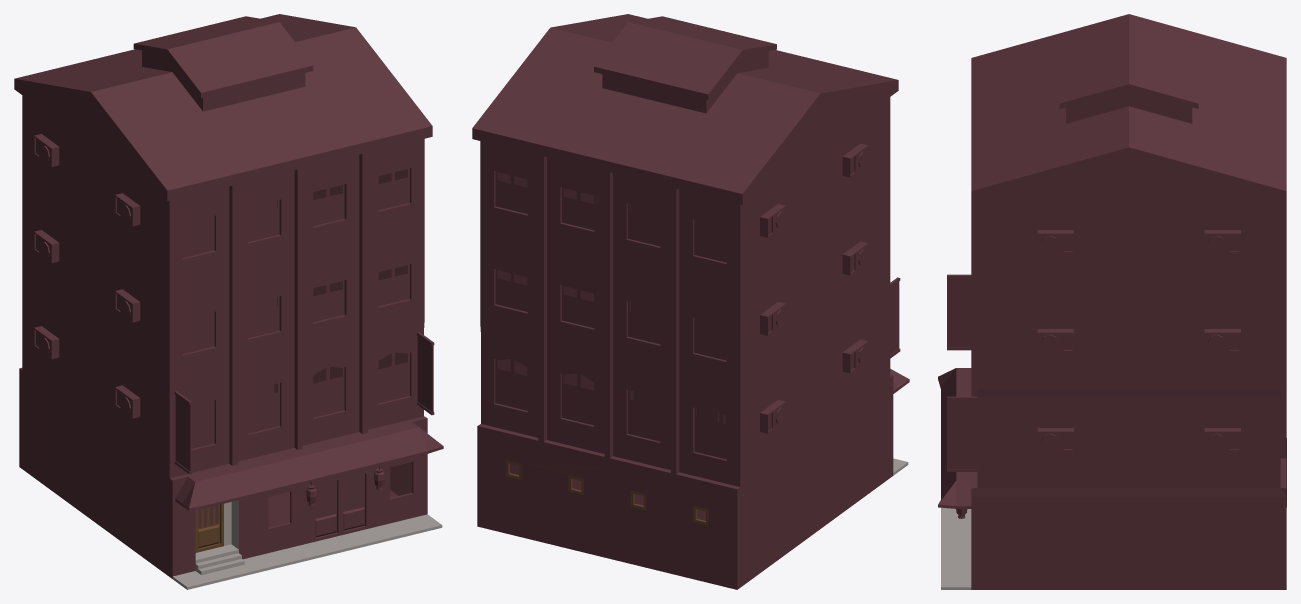
Rendered from building-apartment-china.fbx.
The picture shows the model from 3 angles, left to right: view 1: azimuth 30°, elevation 25°; view 2: azimuth 150°, elevation 25°; view 3: azimuth 270°, elevation 25°; orthographic projection. The views are drawn at different scales.
Visible parts, largest first — view 1: building-apartment-china; view 2: building-apartment-china; view 3: building-apartment-china.
Boxes of the visible parts, bbox=[...] form: building-apartment-china: bbox=[14, 14, 443, 589]; building-apartment-china: bbox=[472, 14, 909, 589]; building-apartment-china: bbox=[938, 14, 1286, 589].
Size of the model in its own units: 10.7 by 17.1 by 11.5.
